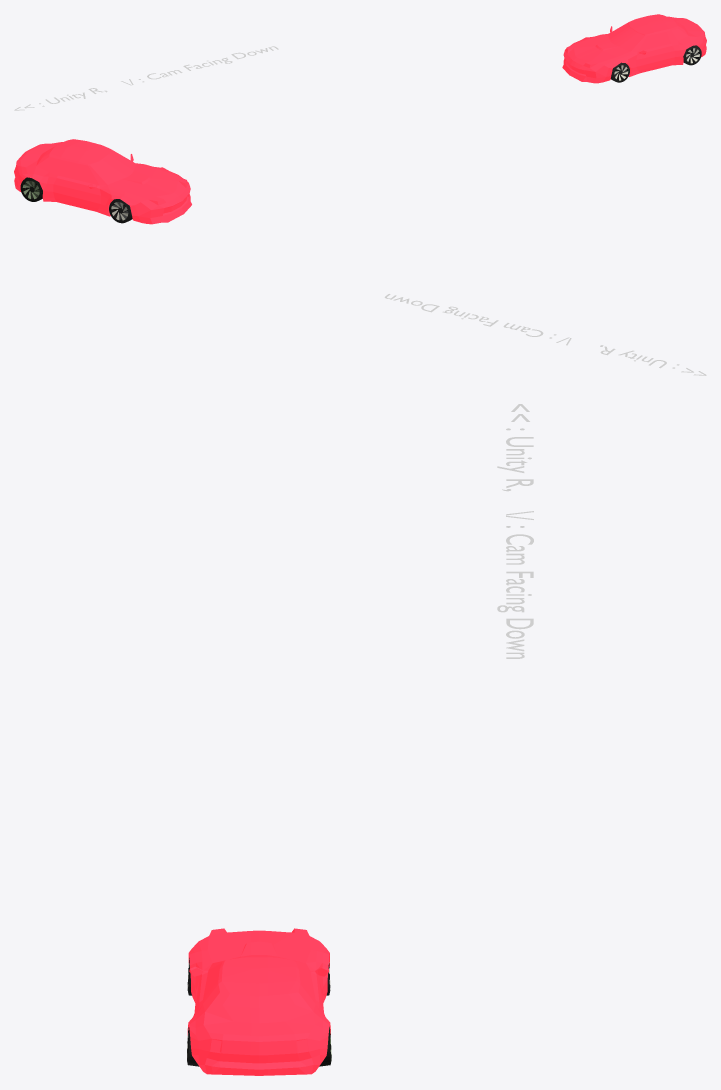
Rendered from Intro Car.fbx.
3 renders of one model, top to bottom at view 1: azimuth 30°, elevation 25°; view 2: azimuth 150°, elevation 25°; view 3: azimuth 270°, elevation 25°, orthographic. The views are drawn at different scales.
Parts seen in each view (by area): view 1: Car, Text, Front R, Back R; view 2: Car, Text, Front L, Back L; view 3: Car, Text.
Boxes of the visible parts, box(x1,y1,x2,y2) form: Car: box(562, 14, 706, 83); Text: box(14, 46, 278, 110); Front R: box(610, 62, 629, 82); Back R: box(683, 45, 701, 65); Car: box(14, 139, 191, 224); Text: box(384, 294, 706, 375); Front L: box(109, 199, 132, 223); Back L: box(20, 177, 42, 201); Car: box(187, 928, 330, 1075); Text: box(497, 404, 533, 658).
Size of the model in its own units: 2050 by 126 by 498.
